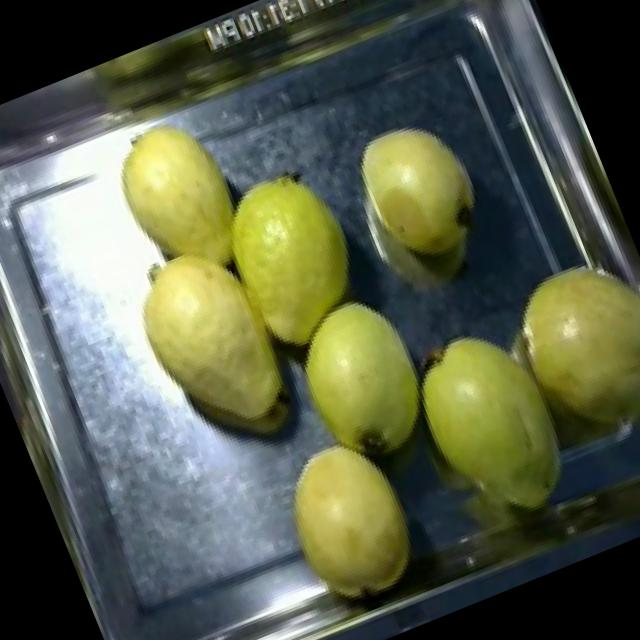Fruit: (138, 167, 396, 458), (102, 222, 318, 488), (380, 298, 598, 550), (196, 145, 392, 375), (260, 274, 458, 490), (250, 410, 443, 626), (484, 232, 640, 478), (89, 95, 262, 292), (328, 98, 503, 290)
